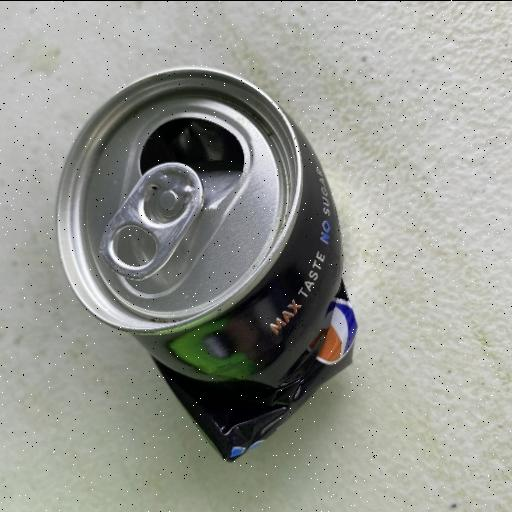Metal: (52, 65, 360, 463)
